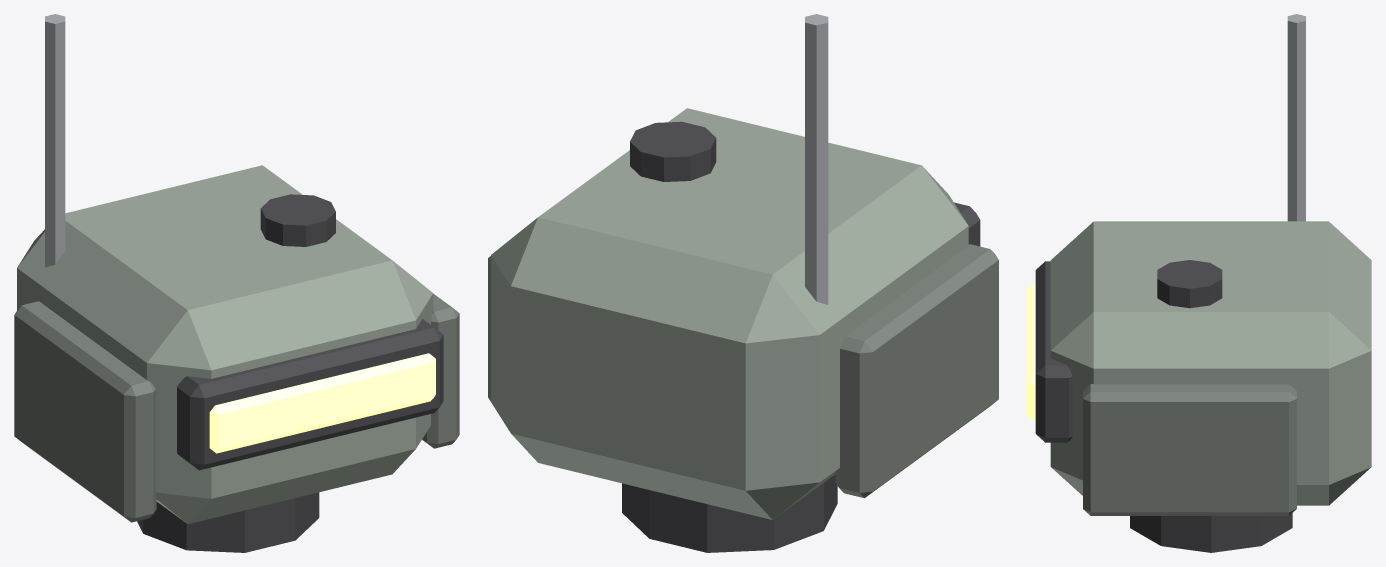
Rendered from medium-head.glb.
3 views of the same model, side by side, from view 1: azimuth 30°, elevation 25°; view 2: azimuth 150°, elevation 25°; view 3: azimuth 270°, elevation 25° (orthographic). The views are drawn at different scales.
Visible parts, largest first — view 1: head; view 2: head; view 3: head.
Part boxes in pixels (x1=…): head: x1=14, y1=14, x2=459, y2=552; head: x1=488, y1=14, x2=998, y2=552; head: x1=1027, y1=14, x2=1371, y2=552.
Bounding box in the file's own units: 0.82 × 1.14 × 0.805.
